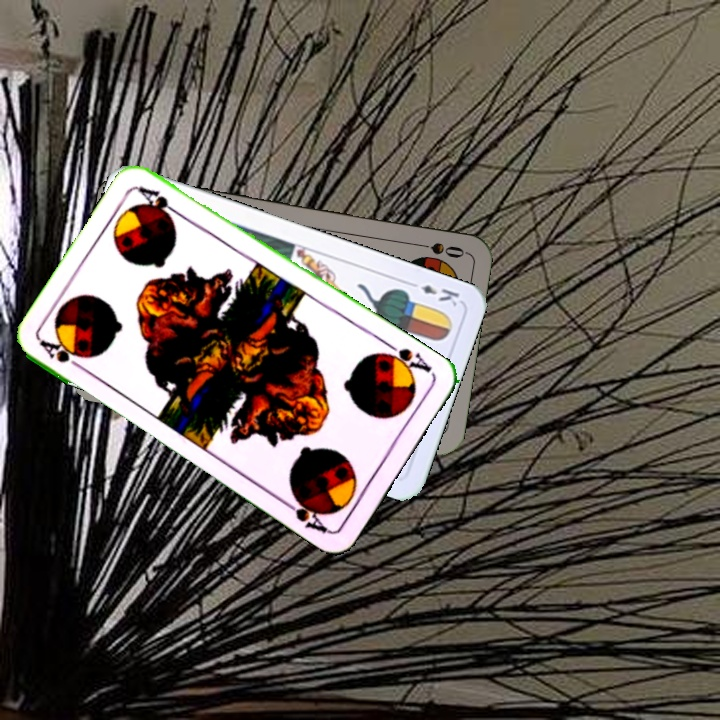EK: (404, 277, 462, 309)
SA: (376, 338, 435, 379), (36, 335, 90, 375)
SO: (408, 238, 467, 261)
